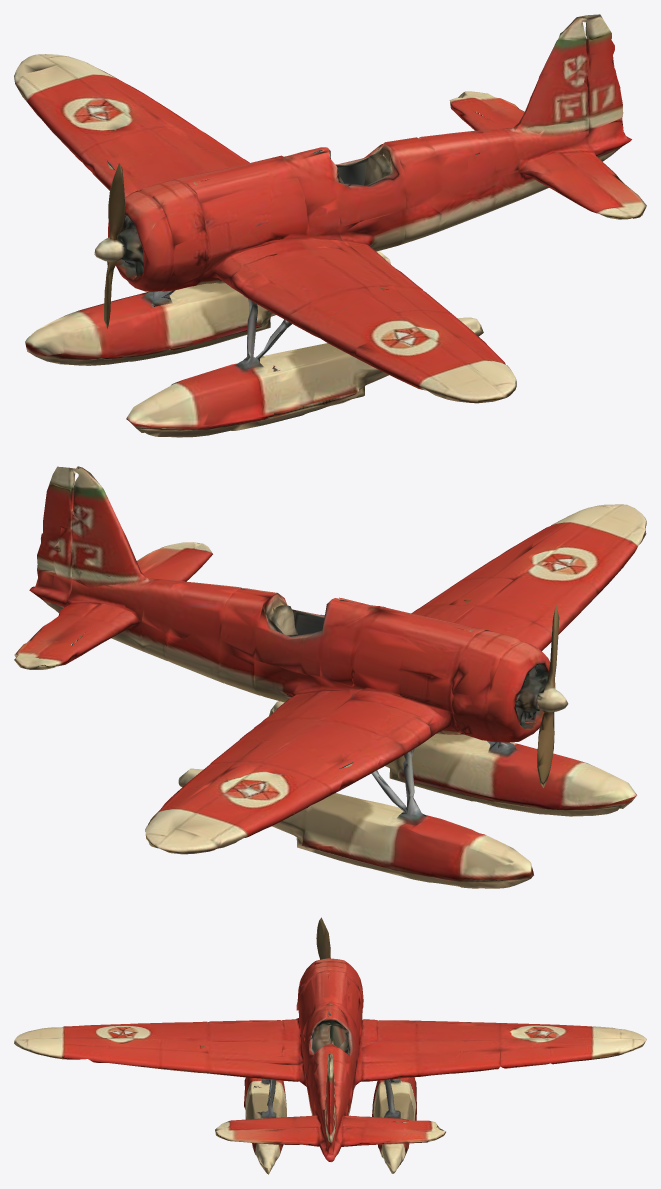
The model's file is seaplane.glb.
The picture shows the model from 3 angles, top to bottom: view 1: azimuth 30°, elevation 25°; view 2: azimuth 150°, elevation 25°; view 3: azimuth 270°, elevation 25°; orthographic projection. The views are drawn at different scales.
Visible parts, largest first — view 1: prop; view 2: prop; view 3: prop.
Boxes of the visible parts, <box> form: prop: <box>14,14,646,437</box>; prop: <box>14,466,646,888</box>; prop: <box>14,917,646,1174</box>.
Bounding box in the file's own units: 2.05 × 1 × 2.99.
1 material, 1 textured.
